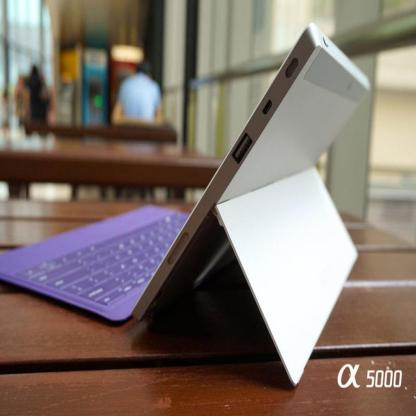board: (38, 26, 369, 369)
